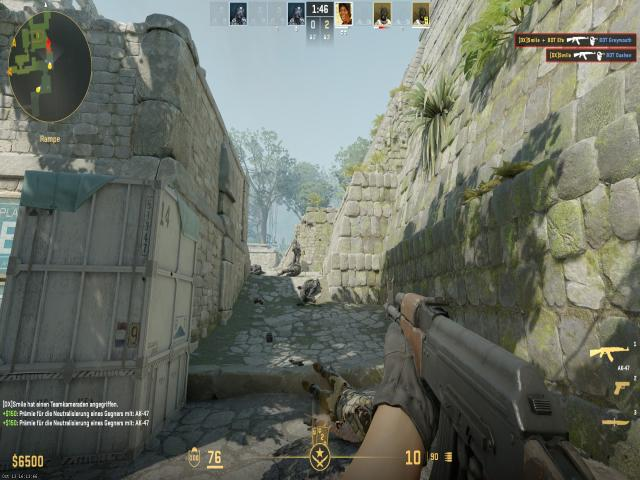CT: (290, 237, 304, 270)
CT-Head: (292, 238, 300, 246)
Dead: (292, 349, 383, 444), (291, 278, 325, 309), (277, 263, 303, 278), (249, 264, 264, 276)
